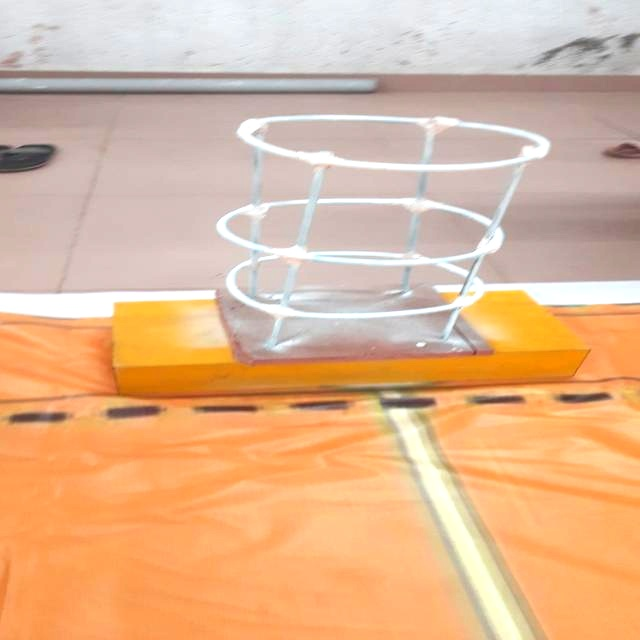silo: (182, 110, 543, 366)
